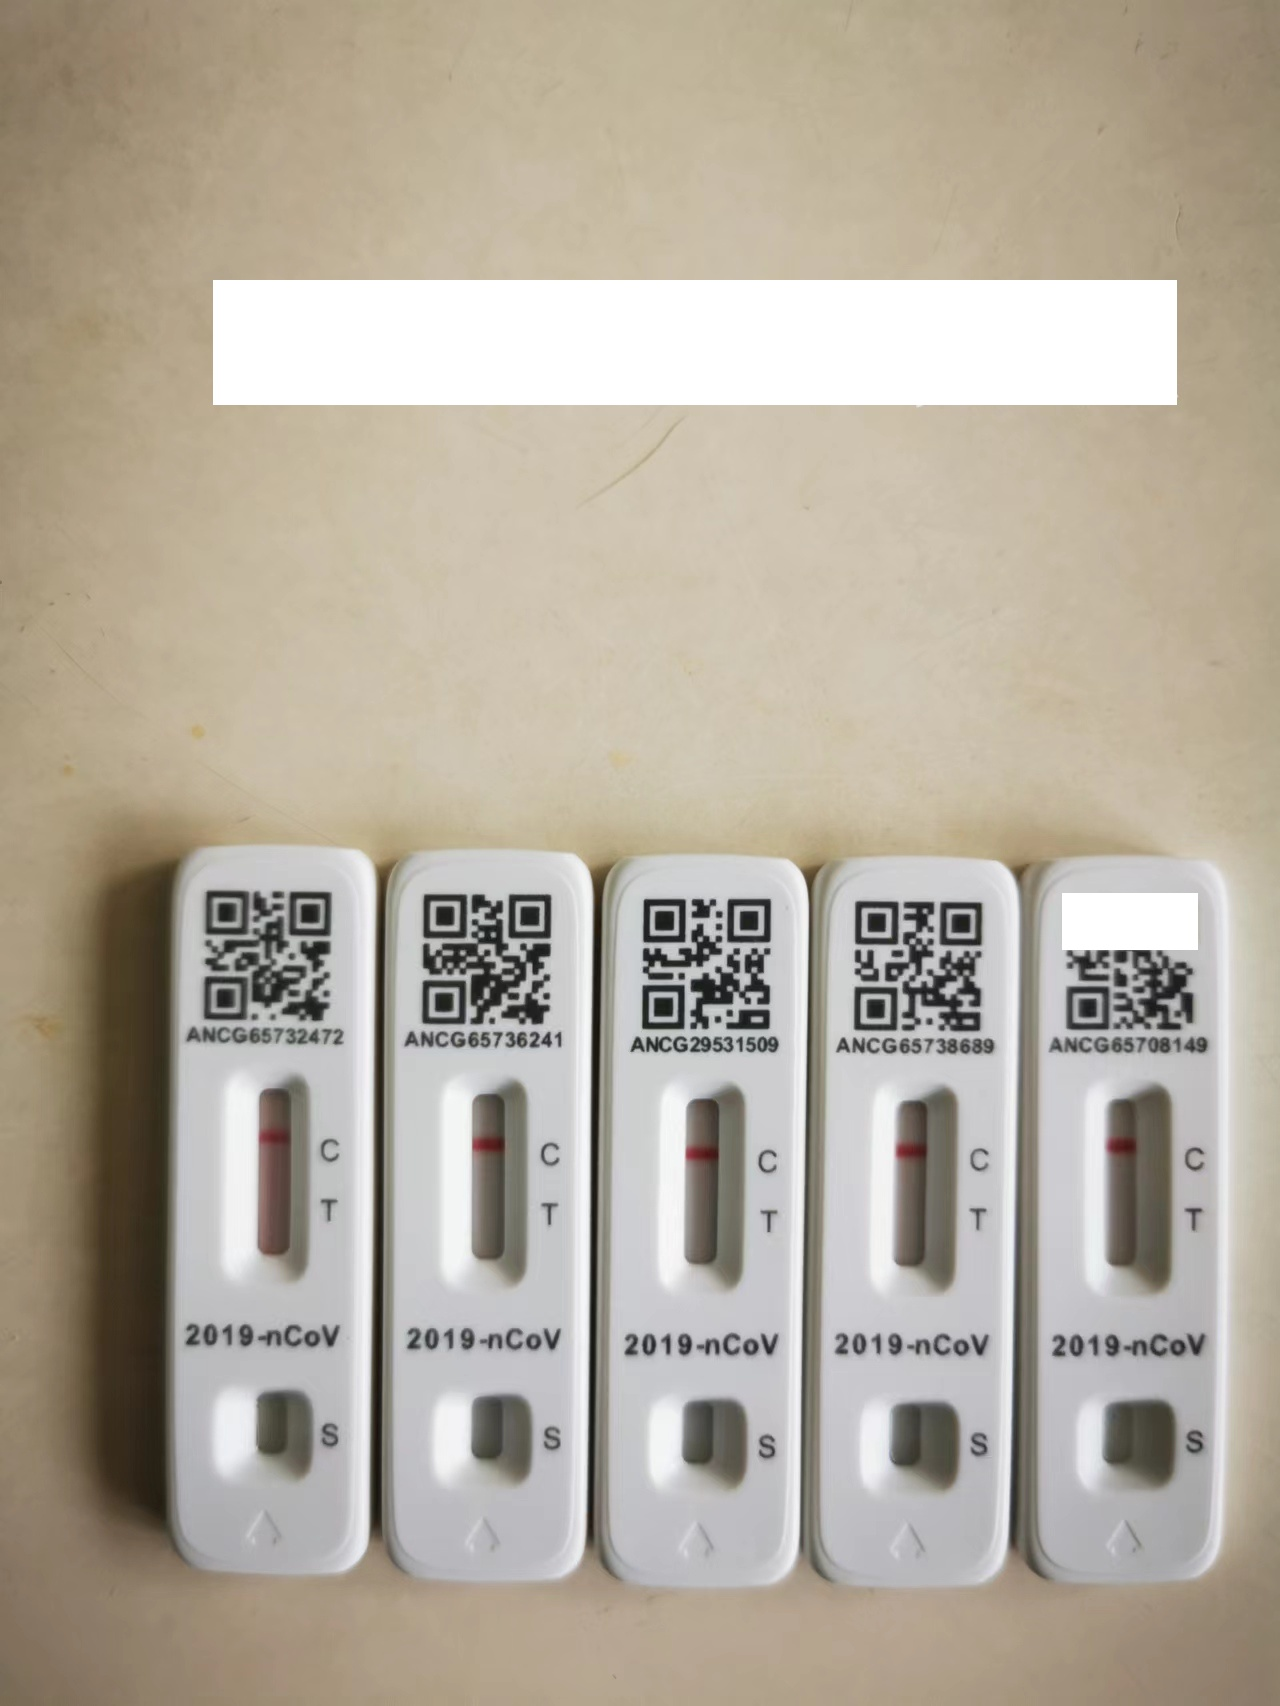negative: (1090, 1081, 1176, 1299), (664, 1090, 749, 1291), (878, 1092, 960, 1295), (450, 1082, 526, 1281), (237, 1080, 309, 1280)
